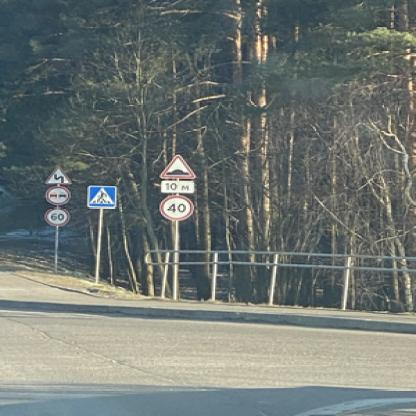Speed Limit 40: (161, 194, 195, 221)
Speed Limit 60: (45, 209, 71, 226)
